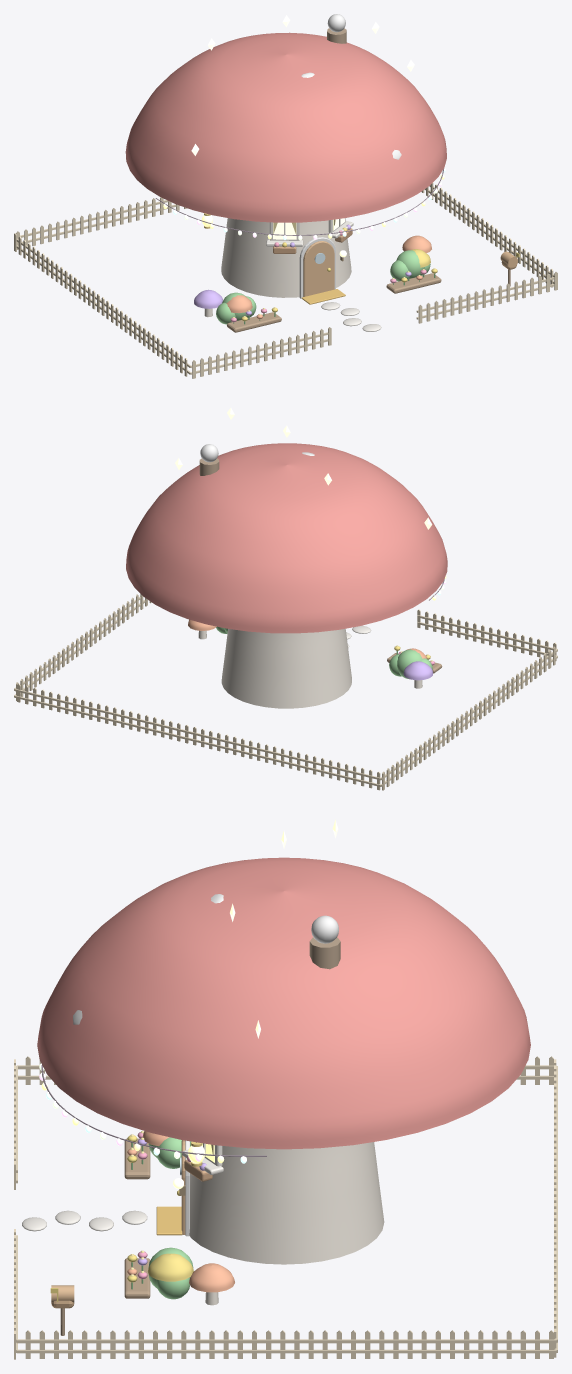
File: building_forest_L09.glb
3 renders of one model, top to bottom at view 1: azimuth 30°, elevation 25°; view 2: azimuth 150°, elevation 25°; view 3: azimuth 270°, elevation 25°, orthographic. The views are drawn at different scales.
Visible parts, largest first — view 1: Body, forest_L9; view 2: Body, forest_L9; view 3: Body, forest_L9.
Boxes of the visible parts, x1,y1,x2,y2 form: Body: (125,15,446,317); forest_L9: (14,14,557,378); Body: (126,408,447,708); forest_L9: (14,444,557,790); Body: (37,819,530,1305); forest_L9: (14,915,557,1359).
Bounding box in the file's own units: 25.35 × 17 × 21.15.
